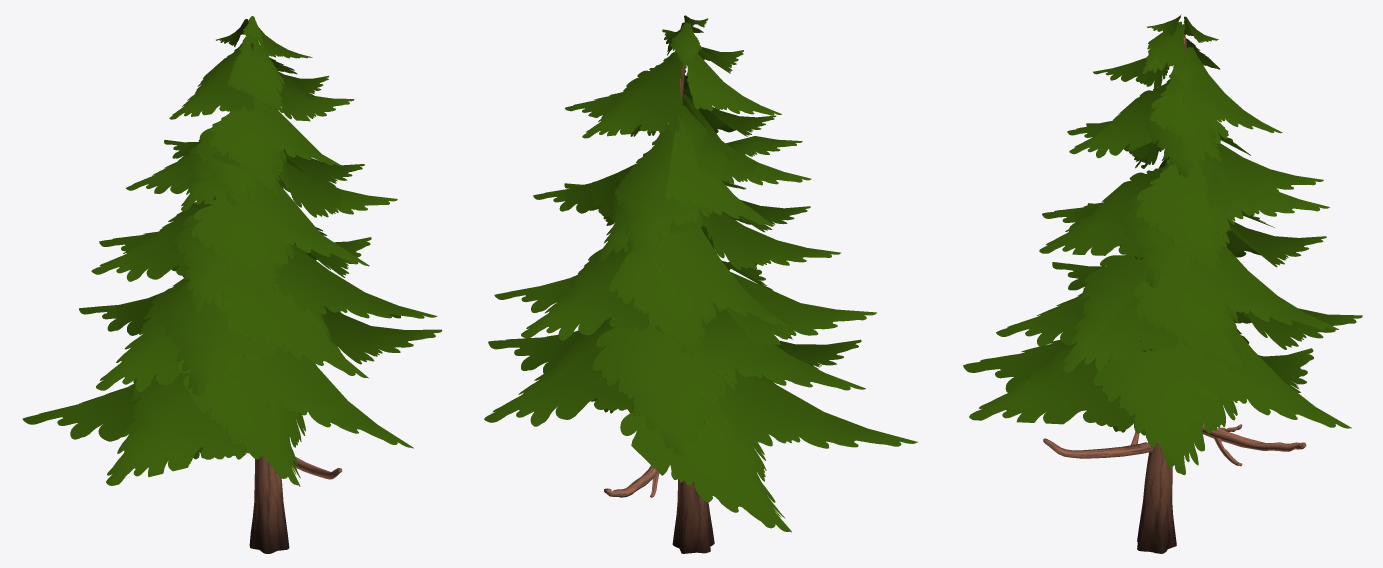
File: nature-pine-2.glb
The picture shows the model from 3 angles, left to right: view 1: azimuth 30°, elevation 25°; view 2: azimuth 150°, elevation 25°; view 3: azimuth 270°, elevation 25°; orthographic projection. The views are drawn at different scales.
Visible parts, largest first — view 1: Pine_2; view 2: Pine_2; view 3: Pine_2.
Boxes of the visible parts, x1=… form: Pine_2: x1=22, y1=16, x2=442, y2=553; Pine_2: x1=484, y1=15, x2=917, y2=553; Pine_2: x1=963, y1=14, x2=1362, y2=553.
Size of the model in its own units: 5.73 by 7.38 by 5.22.
2 materials, 2 textured.
